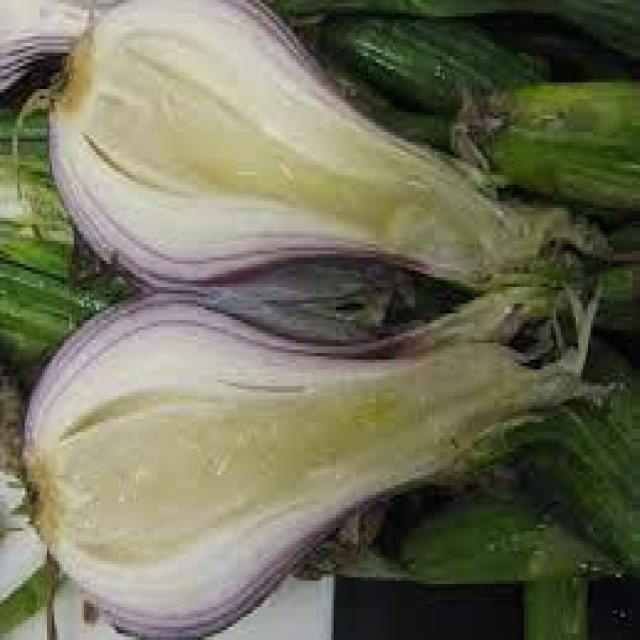Onion: (0, 3, 640, 640), (17, 280, 588, 640), (9, 0, 521, 290), (2, 0, 103, 102)
